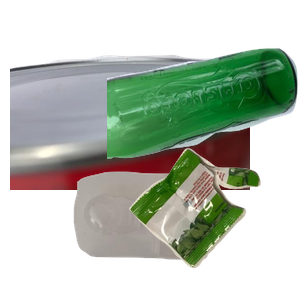glass: (107, 46, 300, 197)
metal: (10, 52, 250, 232)
plastic: (71, 169, 275, 300)
trash: (127, 146, 300, 300)
